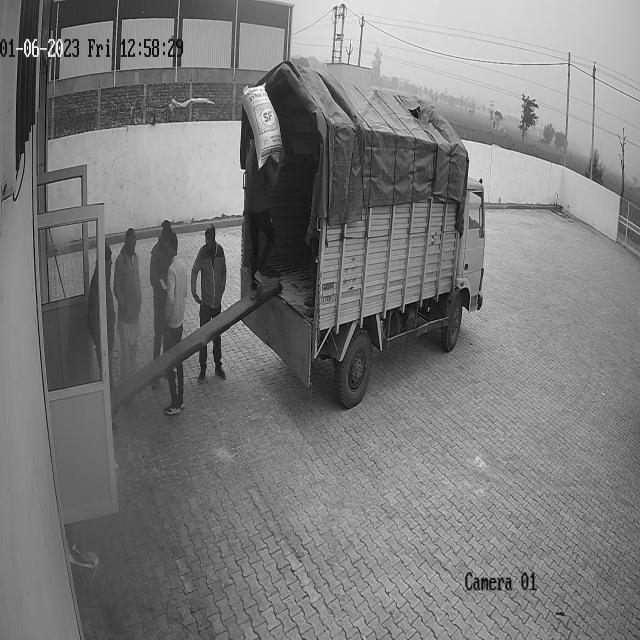sack: (241, 82, 283, 168)
